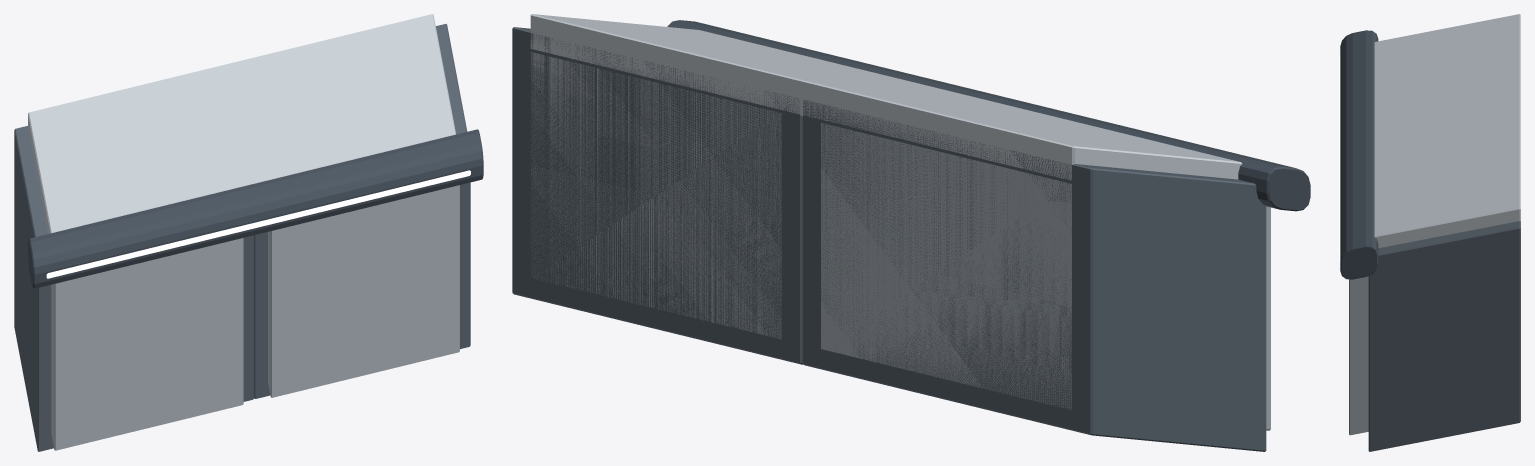
Rendered from Terrain_TopRun2LR.gltf.
3 renders of one model, left to right at view 1: azimuth 30°, elevation 25°; view 2: azimuth 150°, elevation 25°; view 3: azimuth 270°, elevation 25°, orthographic. The views are drawn at different scales.
Parts seen in each view (by area): view 1: Terrain_TopRun2LR_baked; view 2: Terrain_TopRun2LR_baked; view 3: Terrain_TopRun2LR_baked.
Part boxes in pixels (x1,y1,x2,y2): Terrain_TopRun2LR_baked: (14,14,483,451); Terrain_TopRun2LR_baked: (512,14,1310,451); Terrain_TopRun2LR_baked: (1339,14,1520,451).
Size of the model in its own units: 2.33 by 1.18 by 0.74.
